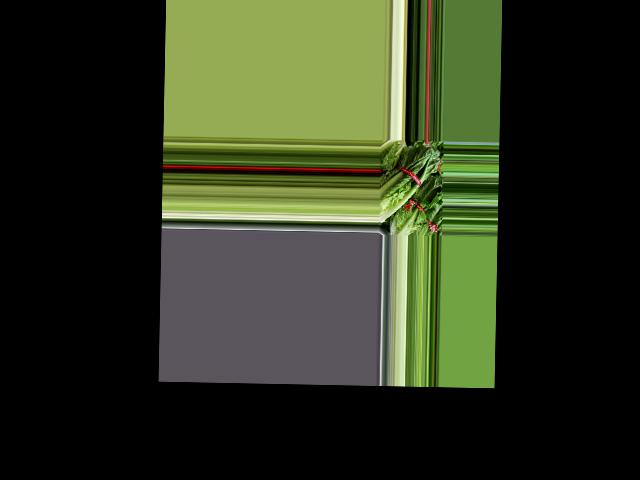lettuce: (378, 144, 440, 222)
